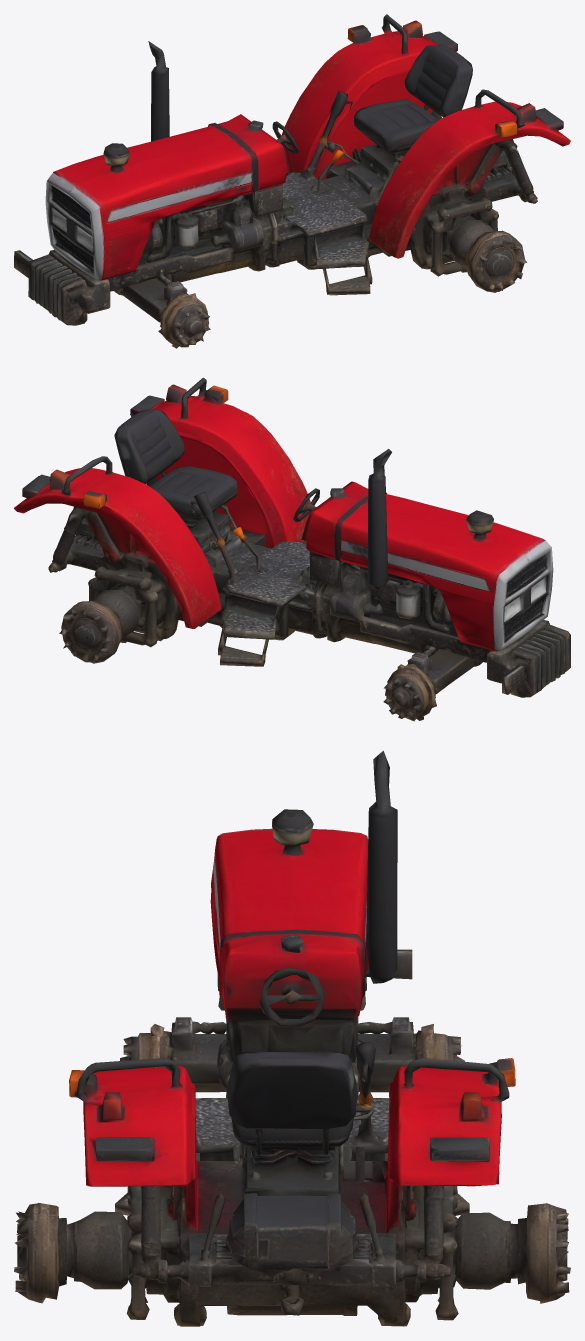
File: traktor-tripo.glb
The picture shows the model from 3 angles, top to bottom: view 1: azimuth 30°, elevation 25°; view 2: azimuth 150°, elevation 25°; view 3: azimuth 270°, elevation 25°; orthographic projection. The views are drawn at different scales.
Visible parts, largest first — view 1: tripo_node_e8a96e05-0242-4ede-90f1-b76cfddb3d7b; view 2: tripo_node_e8a96e05-0242-4ede-90f1-b76cfddb3d7b; view 3: tripo_node_e8a96e05-0242-4ede-90f1-b76cfddb3d7b.
Part boxes in pixels (box(x1,y1,x2,y2)): tripo_node_e8a96e05-0242-4ede-90f1-b76cfddb3d7b: box(14, 14, 570, 348); tripo_node_e8a96e05-0242-4ede-90f1-b76cfddb3d7b: box(14, 377, 570, 721); tripo_node_e8a96e05-0242-4ede-90f1-b76cfddb3d7b: box(14, 750, 570, 1326).
Bounding box in the file's own units: 0.9792 × 0.4961 × 0.6458.
Materials: 1 (1 with a texture image).
